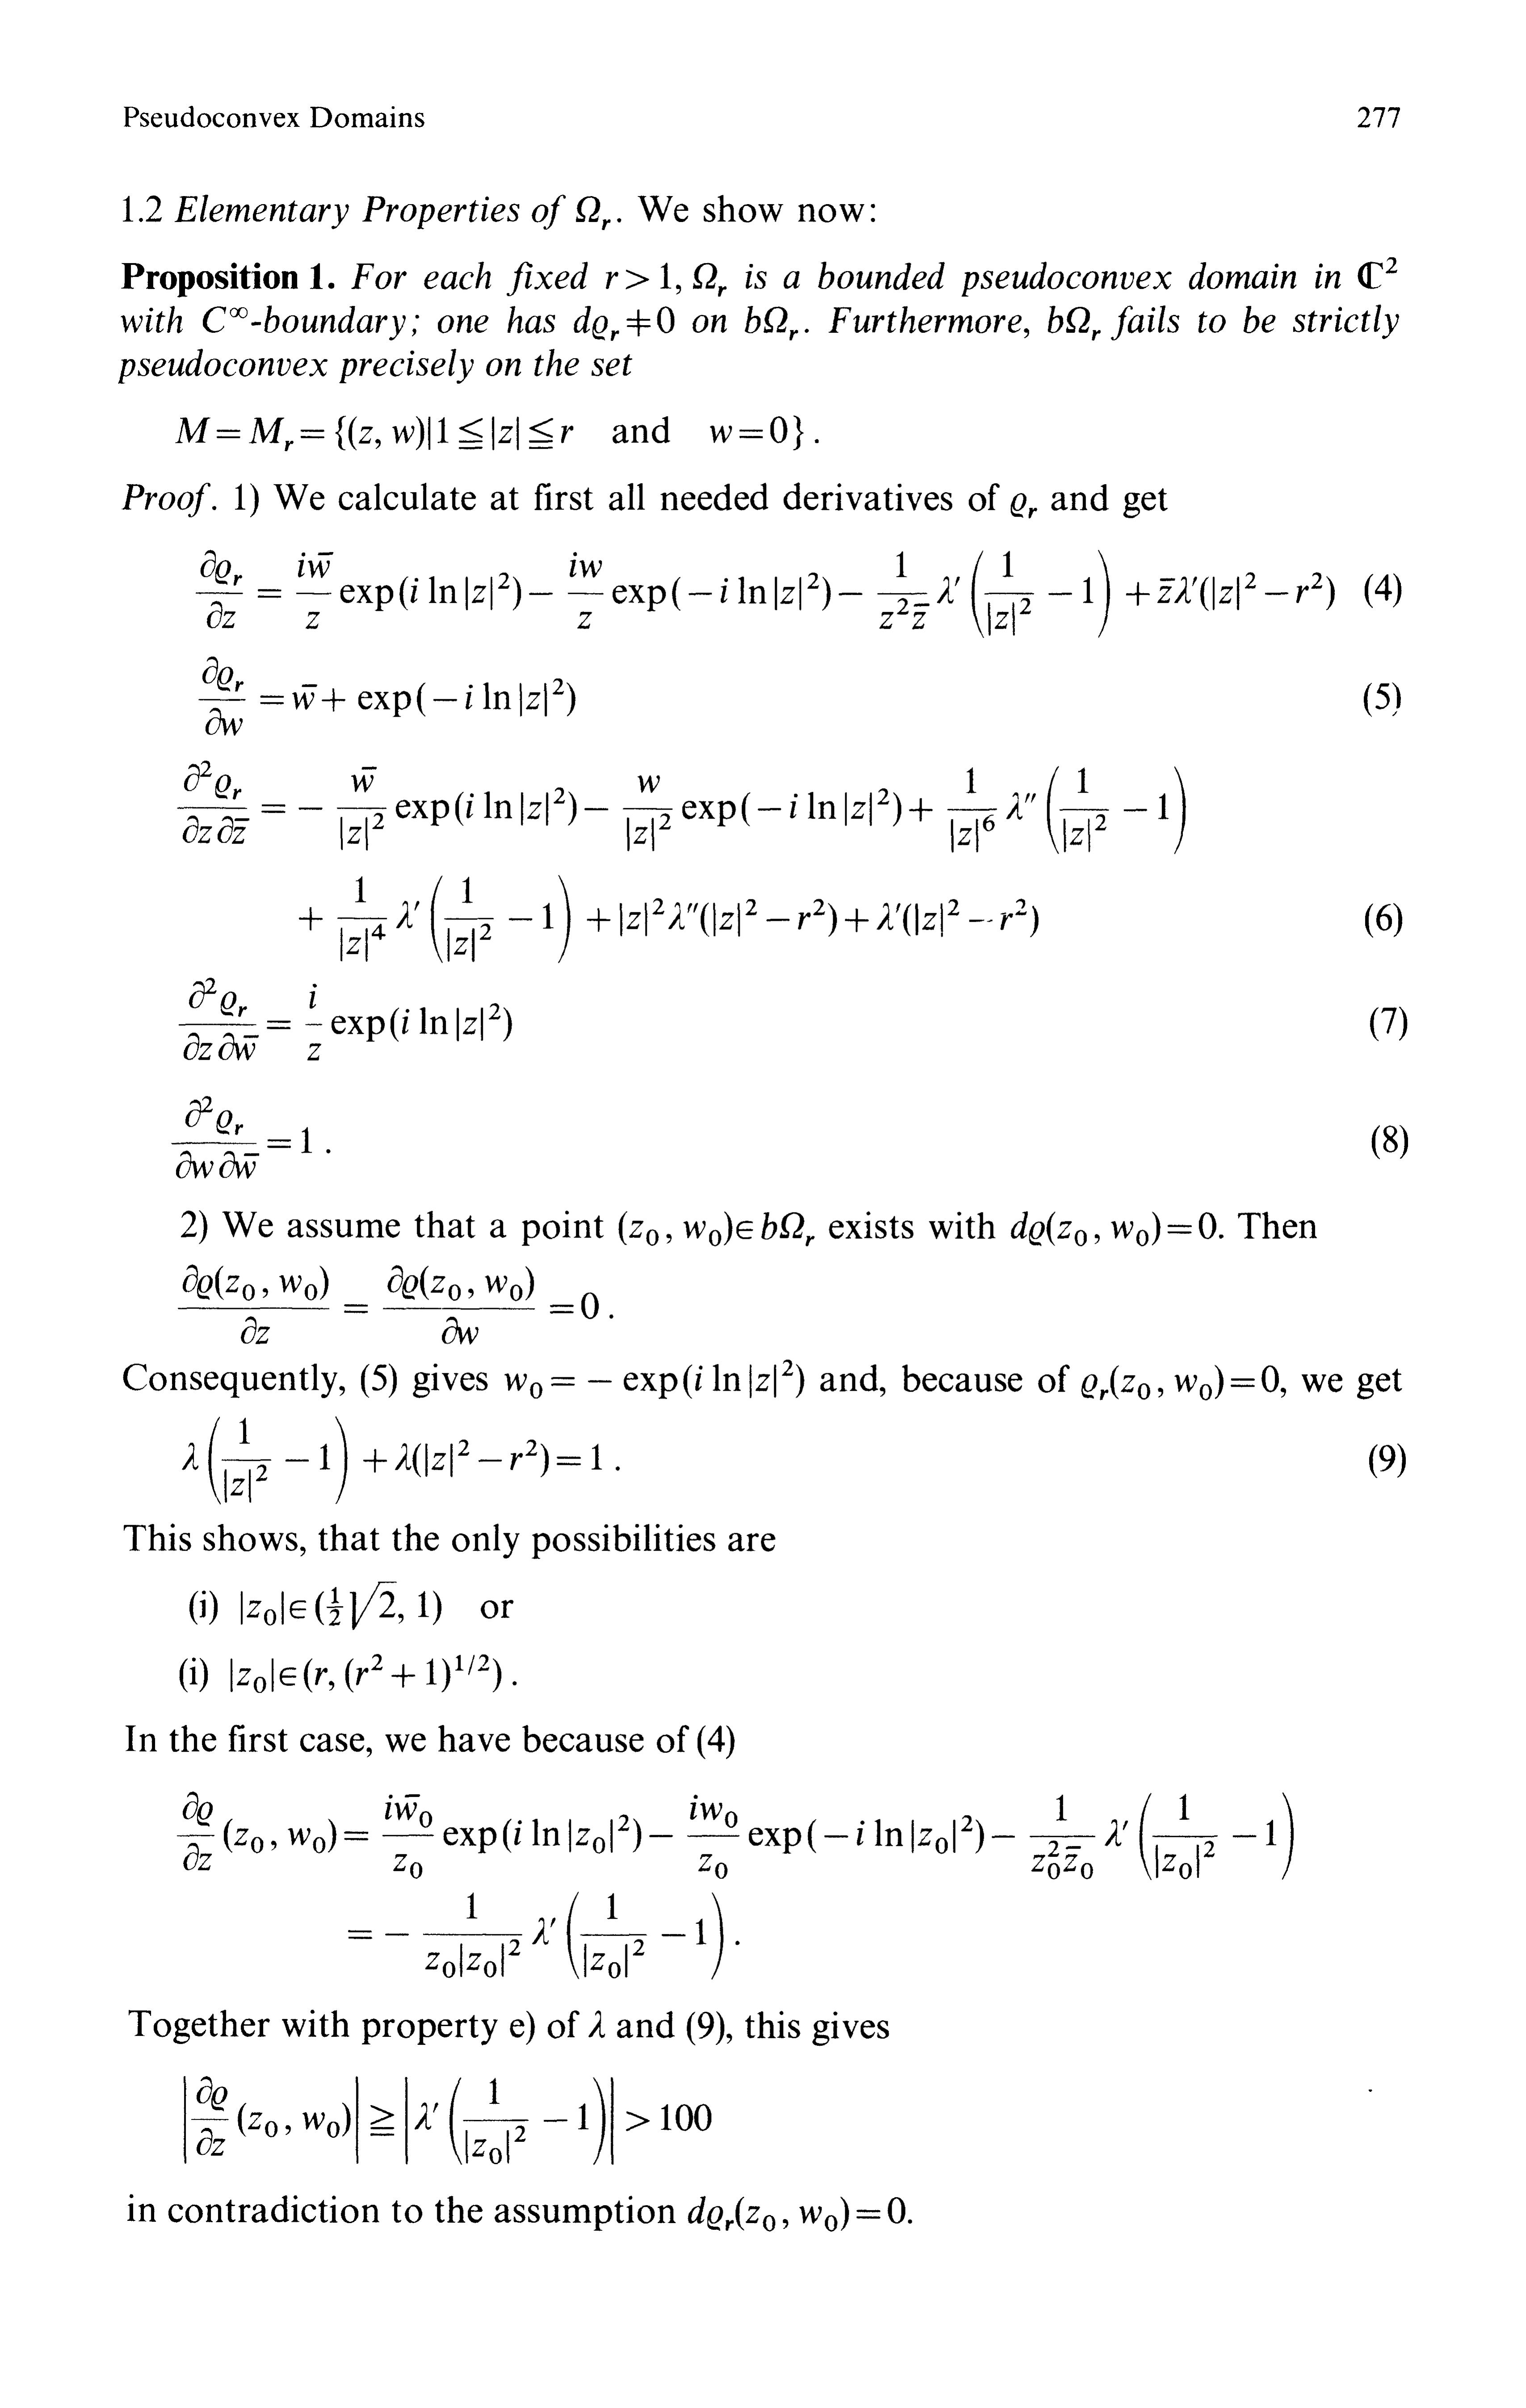maths: (195, 549, 1335, 637), (177, 1792, 1292, 1880), (177, 760, 1185, 853), (299, 876, 1038, 962), (191, 2076, 711, 2164), (183, 1416, 601, 1504), (177, 1265, 599, 1344), (348, 1892, 723, 1978), (198, 656, 574, 735), (179, 978, 511, 1060), (176, 416, 572, 451), (504, 1360, 804, 1399), (172, 1095, 311, 1178), (237, 1653, 500, 1692), (246, 1581, 441, 1629), (688, 2196, 904, 2231), (1011, 1211, 1215, 1246), (618, 1211, 815, 1246), (1082, 1365, 1278, 1401), (574, 305, 674, 340), (709, 416, 803, 449), (745, 305, 797, 340), (1048, 305, 1101, 340), (606, 263, 671, 290), (1357, 258, 1396, 288), (202, 307, 248, 332), (576, 197, 609, 230), (694, 263, 725, 297), (1010, 493, 1036, 518), (588, 2011, 604, 2038)
